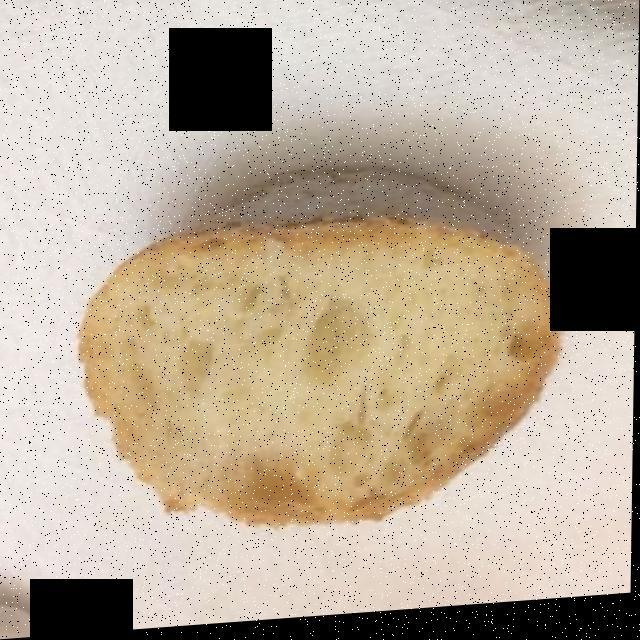bread: (83, 195, 556, 529)
